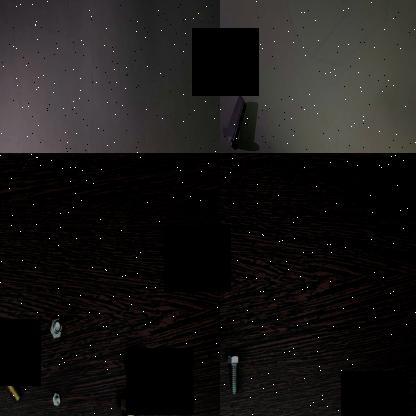Bolts: (227, 98, 252, 153), (0, 353, 21, 407), (122, 342, 152, 378), (226, 351, 245, 395), (116, 394, 142, 416), (47, 314, 66, 344)
